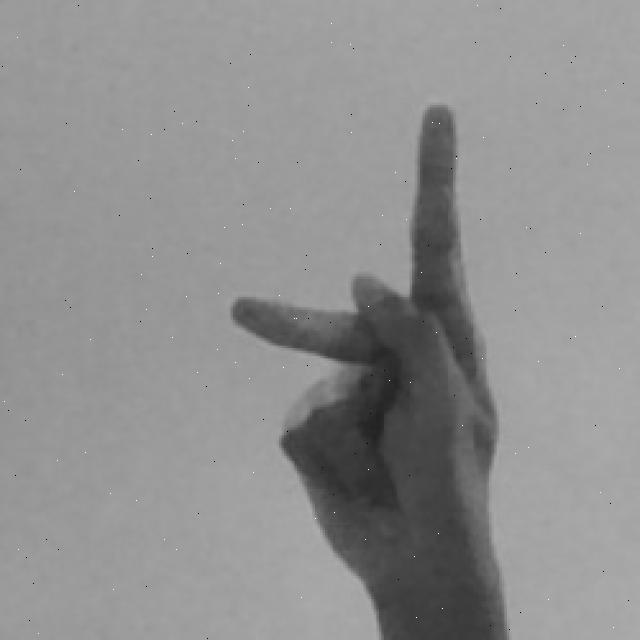K: (224, 101, 512, 640)
